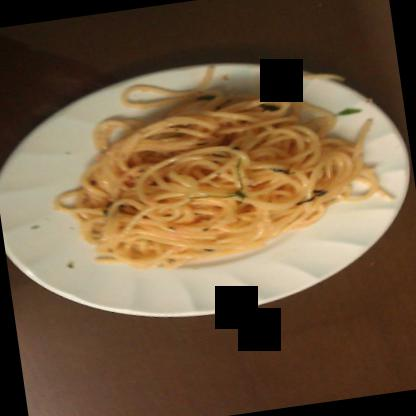pasta: (57, 66, 384, 279)
